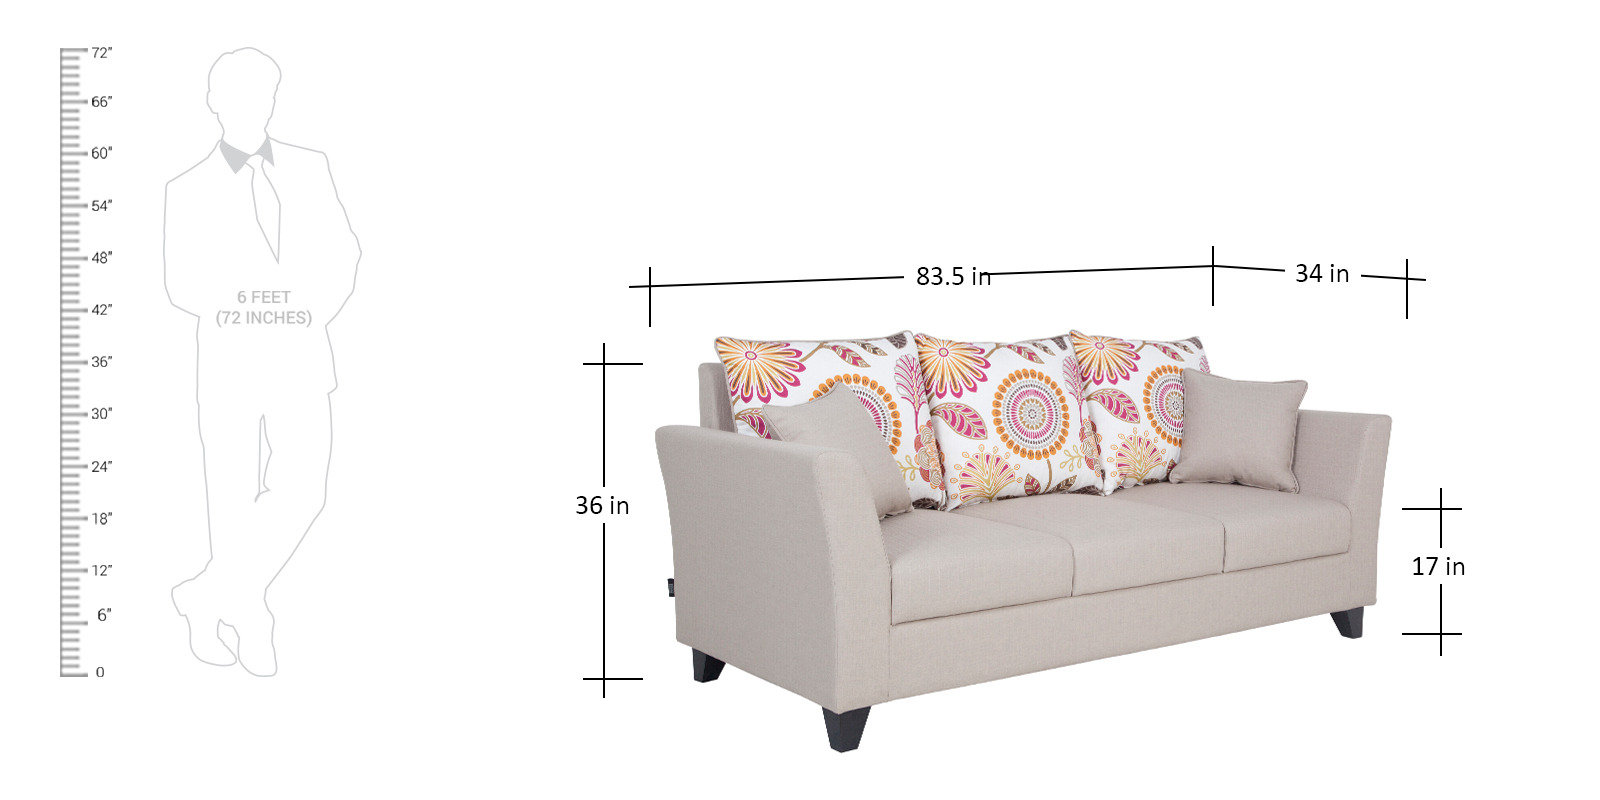Mumbai Glitz Three Seater Sofa in Beige Colour by Urban Living: (652, 331, 1392, 754)
